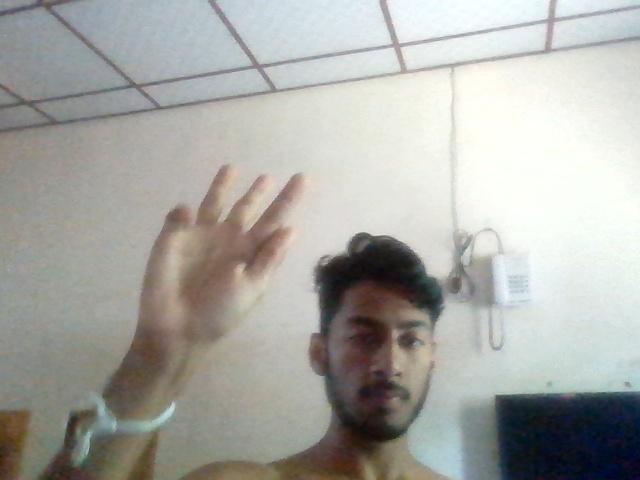LiveLong: (139, 162, 309, 344)
